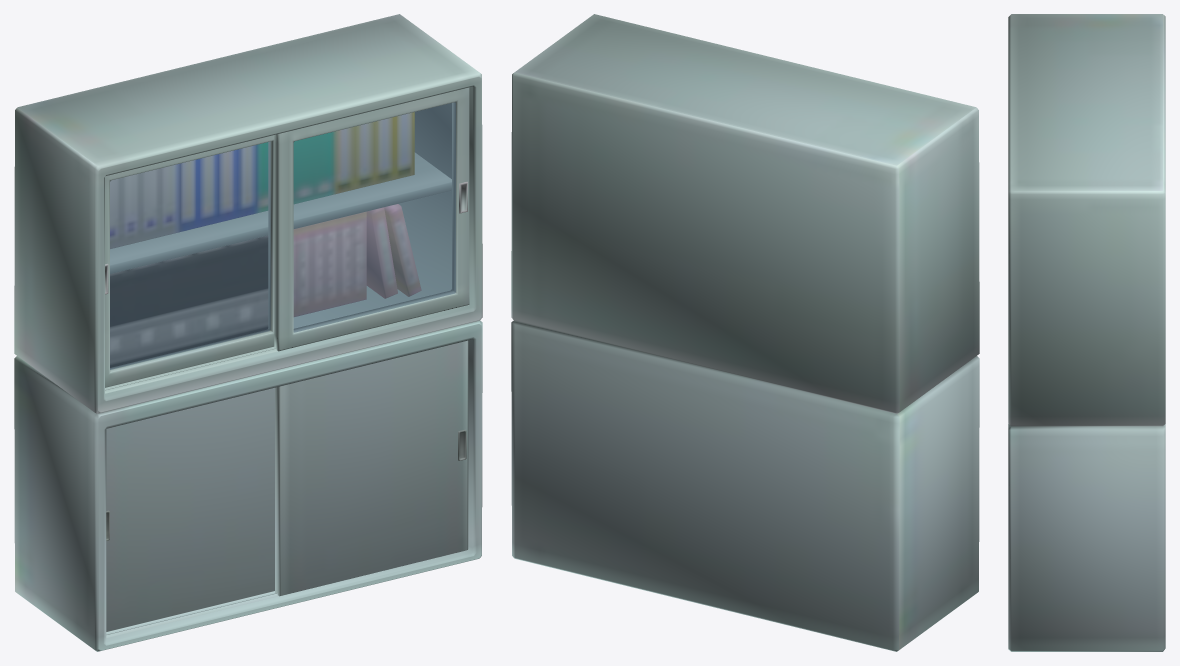
The picture shows the model from 3 angles, left to right: view 1: azimuth 30°, elevation 25°; view 2: azimuth 150°, elevation 25°; view 3: azimuth 270°, elevation 25°; orthographic projection. The views are drawn at different scales.
Size of the model in its own units: 16.51 by 19.75 by 6.1.
2 materials, 1 textured.
